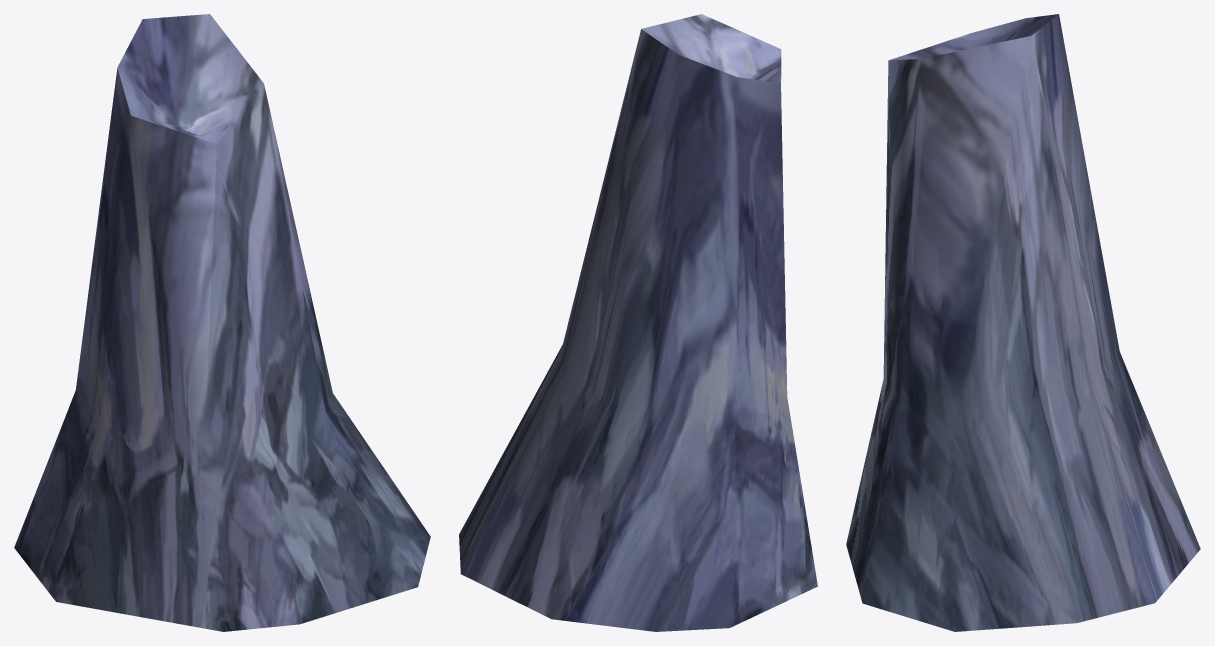
File: pir_m_prp_vol_steamVent_column.fbx
The picture shows the model from 3 angles, left to right: view 1: azimuth 30°, elevation 25°; view 2: azimuth 150°, elevation 25°; view 3: azimuth 270°, elevation 25°; orthographic projection. The views are drawn at different scales.
Parts seen in each view (by area): view 1: lod_high; view 2: lod_high; view 3: lod_high.
Part boxes in pixels (x1,y1,x2,y2): lod_high: [14, 14, 430, 631]; lod_high: [459, 14, 817, 631]; lod_high: [846, 14, 1200, 631].
Bounding box in the file's own units: 2377 × 3509 × 2203.
1 material, 1 textured.
